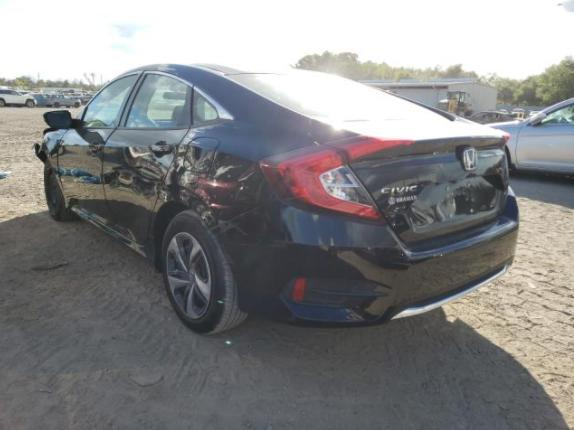Back-bumper: (210, 183, 520, 328)
Back-door: (103, 70, 194, 245)
Back-wheel: (161, 209, 248, 335)
Back-window: (124, 73, 192, 127), (192, 89, 218, 126)
Back-windshield: (225, 73, 452, 122)
Fender: (41, 128, 69, 178)
Front-door: (58, 71, 143, 227)
Front-wheel: (44, 157, 79, 222)
Front-window: (81, 73, 138, 127)
Mirror: (43, 110, 81, 128)
Quarter-panel: (147, 117, 323, 246)
Rocker-panel: (67, 205, 159, 271)
Roof: (156, 62, 336, 76)
Tail-light: (259, 144, 386, 224), (326, 134, 415, 163), (480, 129, 510, 141)
Trunk: (225, 73, 510, 244)
